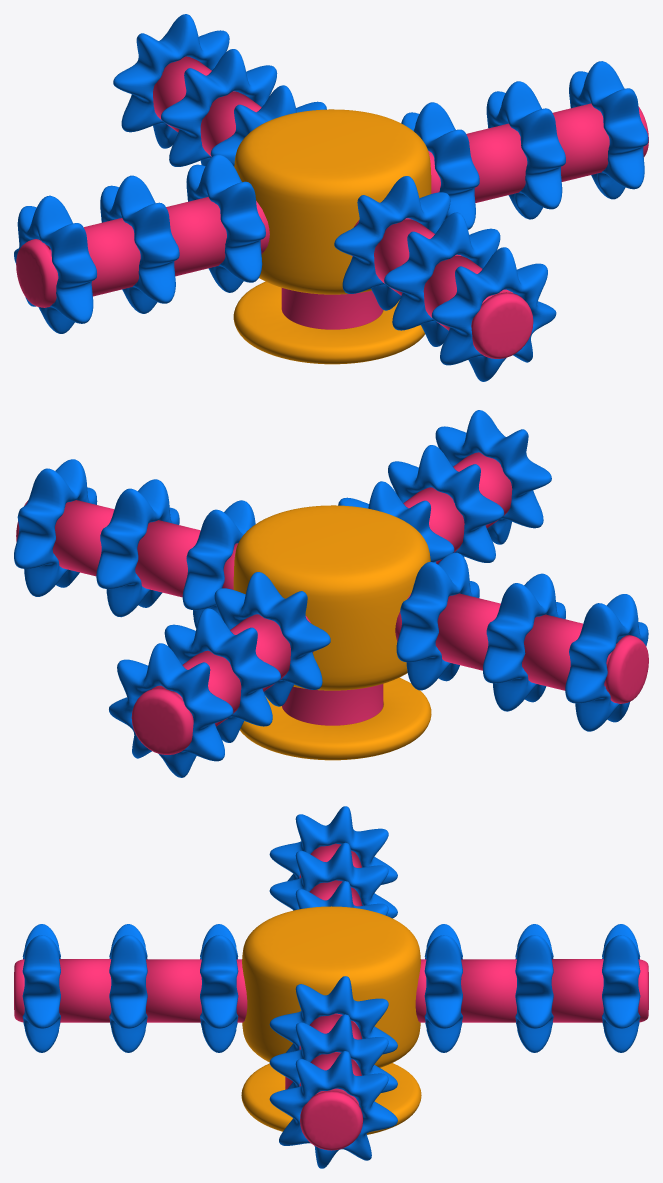
3 renders of one model, top to bottom at view 1: azimuth 30°, elevation 25°; view 2: azimuth 150°, elevation 25°; view 3: azimuth 270°, elevation 25°, orthographic. The views are drawn at different scales.
Parts seen in each view (by area): view 1: Merkez.001, Kol-3.001, Kol-1.001, Knife.004, Kol-4.001, Knife.012, Knife.006, Knife.013, Knife.015, Knife.001, Knife.002, Knife.005 (+5 smaller); view 2: Merkez.001, Kol-3.001, Kol-1.001, Knife.016, Kol-2.001, Knife.012, Knife.002, Knife.015, Knife.013, Knife.001, Knife.018, Knife.017 (+5 smaller); view 3: Merkez.001, Kol-2.001, Kol-4.001, Knife.001, Knife.004, Knife.016, Knife.006, Knife.018, Knife.005, Knife.017, Kol-1.001, Knife.003 (+5 smaller).
Boxes of the visible parts, x1,y1,x2,y2 form: Merkez.001: (233,109,431,364); Kol-3.001: (16,197,269,307); Kol-1.001: (428,103,648,202); Knife.004: (431,247,556,381); Kol-4.001: (352,218,533,358); Knife.012: (14,195,96,333); Knife.006: (334,176,450,310); Knife.013: (100,175,179,313); Knife.015: (186,154,265,292); Knife.001: (569,61,648,199); Knife.002: (486,81,565,219); Knife.005: (384,212,500,346); Merkez.001: (233,505,431,760); Kol-3.001: (395,593,648,703); Kol-1.001: (16,500,237,597); Knife.016: (109,643,233,777); Kol-2.001: (131,614,313,754); Knife.012: (565,594,648,731); Knife.002: (96,479,179,617); Knife.015: (396,552,479,690); Knife.013: (483,573,565,711); Knife.001: (14,459,97,596); Knife.018: (214,572,330,706); Knife.017: (164,608,280,742); Merkez.001: (241,906,421,1134); Kol-2.001: (415,959,648,1022); Kol-4.001: (14,959,247,1022); Knife.001: (269,1051,397,1168); Knife.004: (22,924,60,1052); Knife.016: (602,924,640,1052); Knife.006: (200,924,238,1052); Knife.018: (424,924,462,1052); Knife.005: (109,924,147,1052); Knife.017: (515,924,553,1052); Kol-1.001: (299,1013,363,1150); Knife.003: (269,976,397,1054).
Bounding box in the file's own units: 140 × 42 × 140.
